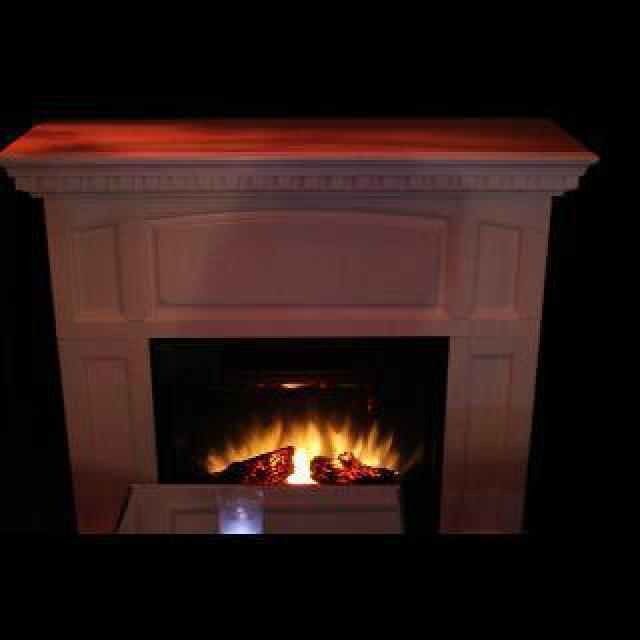Fire: (194, 400, 420, 484)
